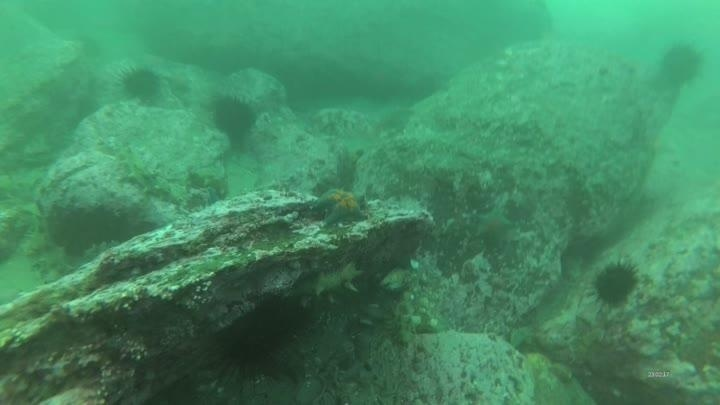echinus: (211, 292, 305, 377), (590, 258, 641, 310), (209, 93, 259, 143), (658, 42, 705, 89), (118, 64, 164, 105)
holothurian: (114, 142, 185, 203), (290, 259, 366, 305), (22, 226, 74, 284), (184, 164, 234, 201)
starfish: (312, 184, 370, 228), (471, 202, 516, 250), (165, 68, 194, 98)
